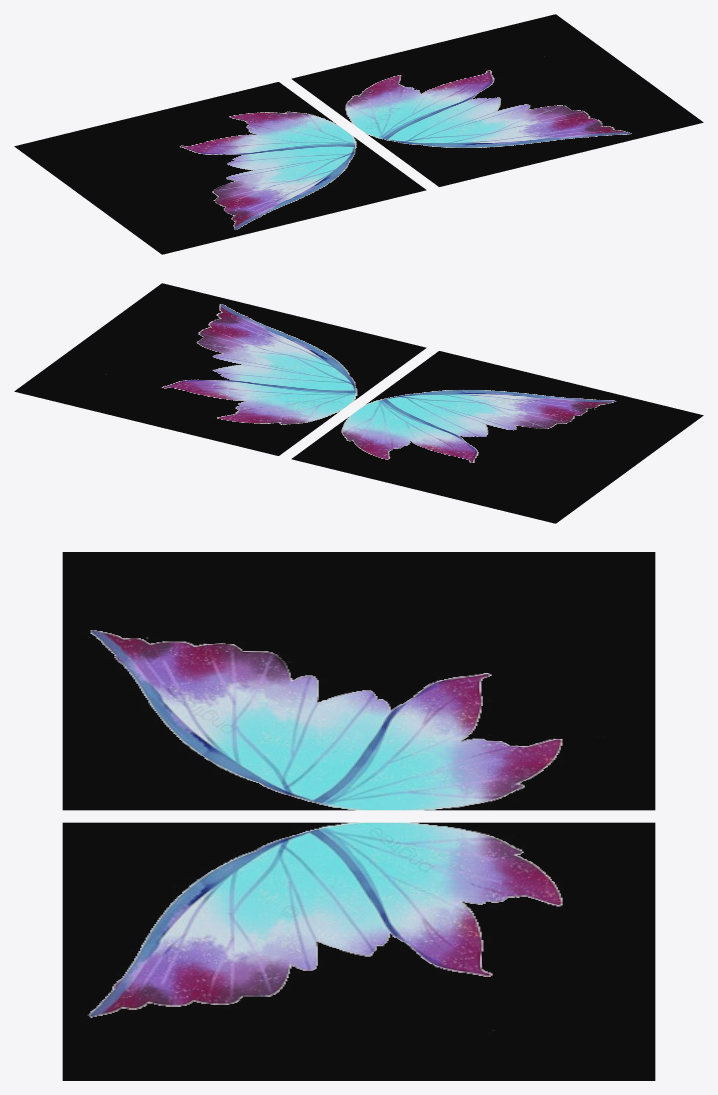
Rendered from wings.obj.
3 views of the same model, one above another, from view 1: azimuth 30°, elevation 25°; view 2: azimuth 150°, elevation 25°; view 3: azimuth 270°, elevation 25° (orthographic). The views are drawn at different scales.
Visible parts, largest first — view 1: butterfly_free:Wings_wings_Butterfly_Wings; view 2: butterfly_free:Wings_wings_Butterfly_Wings; view 3: butterfly_free:Wings_wings_Butterfly_Wings.
Part boxes in pixels (x1=…): butterfly_free:Wings_wings_Butterfly_Wings: x1=14, y1=14, x2=703, y2=254; butterfly_free:Wings_wings_Butterfly_Wings: x1=14, y1=283, x2=703, y2=523; butterfly_free:Wings_wings_Butterfly_Wings: x1=62, y1=552, x2=655, y2=1080.
Size of the model in its own units: 0.1314 by 0 by 0.0622.
Materials: 1 (1 with a texture image).
